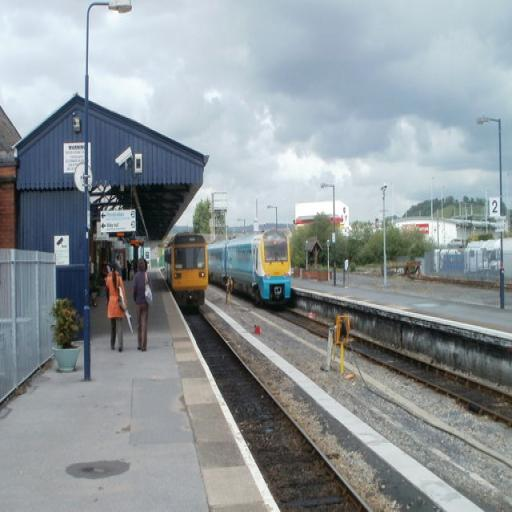platform_edge: (158, 293, 286, 512)
